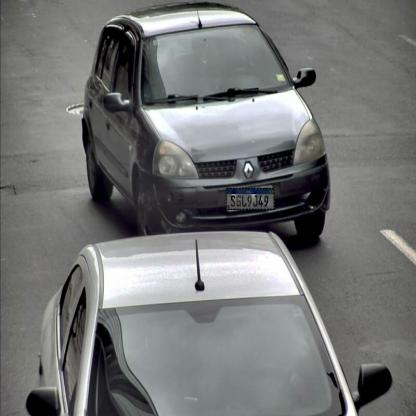PlacaM: (226, 188, 274, 210)
